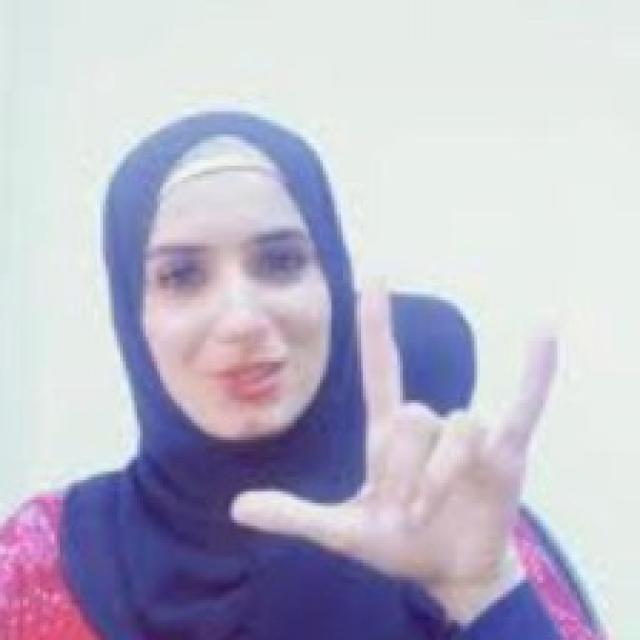love: (227, 267, 561, 584)
